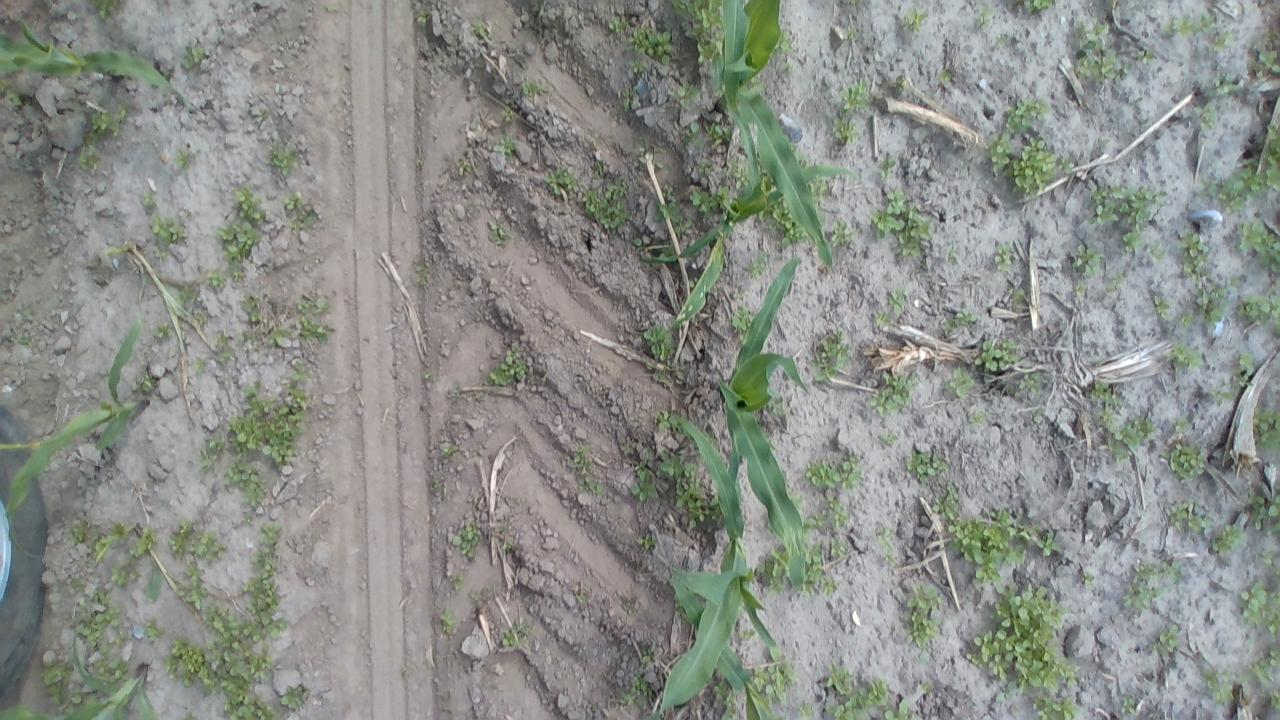Maize: (652, 412, 776, 714), (642, 163, 850, 337), (714, 0, 838, 266), (0, 320, 152, 512), (726, 259, 809, 588), (0, 18, 185, 107), (2, 621, 154, 719), (670, 573, 766, 720), (102, 243, 132, 266)
Weeds: (966, 577, 1084, 681), (932, 490, 1052, 583), (202, 607, 276, 720), (230, 365, 310, 463), (1214, 124, 1280, 212), (1093, 178, 1165, 250), (245, 524, 288, 642), (1098, 408, 1153, 462), (1074, 19, 1117, 85), (676, 0, 722, 61), (1010, 136, 1060, 192), (582, 176, 628, 230), (750, 649, 798, 700), (247, 298, 292, 352), (866, 373, 920, 418), (905, 580, 940, 648), (168, 522, 228, 560), (1160, 434, 1207, 481), (225, 460, 270, 508), (670, 469, 709, 524), (171, 559, 212, 610), (814, 333, 852, 386), (1239, 586, 1280, 632), (165, 636, 202, 684), (92, 522, 136, 562), (1179, 232, 1216, 278), (754, 548, 789, 596), (802, 548, 836, 593), (76, 608, 122, 641), (1237, 295, 1280, 330), (899, 213, 932, 258), (630, 26, 675, 59), (804, 500, 846, 534), (1005, 98, 1048, 130), (978, 338, 1021, 369), (220, 222, 260, 255), (1166, 12, 1218, 36), (1124, 580, 1160, 614), (491, 350, 527, 384), (1040, 690, 1080, 720), (1166, 503, 1208, 531), (1195, 288, 1230, 321), (1212, 520, 1244, 556), (822, 660, 858, 692), (774, 207, 804, 245), (644, 324, 674, 362), (1247, 645, 1280, 679), (580, 440, 600, 496), (841, 77, 870, 114), (1254, 406, 1280, 447), (1254, 36, 1280, 76), (543, 163, 573, 197), (1168, 345, 1205, 371), (152, 217, 185, 246), (1135, 559, 1182, 579), (1072, 243, 1100, 276), (989, 132, 1010, 176), (90, 110, 128, 134), (1238, 222, 1266, 254), (1253, 490, 1280, 523), (270, 142, 296, 176), (906, 452, 939, 478), (1150, 624, 1180, 652), (1204, 671, 1232, 701), (42, 664, 64, 702), (701, 190, 733, 216), (867, 215, 906, 236), (452, 524, 482, 551), (804, 462, 837, 486), (237, 186, 261, 219), (198, 438, 224, 468), (864, 678, 890, 708), (838, 450, 861, 483), (902, 9, 932, 34), (827, 217, 853, 245), (949, 373, 974, 402), (294, 318, 330, 337), (94, 658, 128, 678), (662, 453, 688, 479), (622, 678, 648, 703), (833, 694, 858, 720), (631, 478, 655, 505), (111, 565, 140, 587), (657, 200, 683, 224), (134, 530, 156, 558), (884, 700, 913, 720), (180, 44, 203, 69), (696, 156, 716, 184), (280, 685, 304, 708), (836, 117, 859, 141), (1215, 72, 1237, 96), (1212, 28, 1234, 52), (296, 292, 322, 312), (874, 524, 894, 550), (994, 242, 1014, 268), (888, 189, 906, 217), (70, 688, 96, 707), (214, 340, 234, 364), (732, 159, 747, 191), (732, 308, 755, 328), (751, 252, 770, 276), (1088, 381, 1108, 403), (954, 309, 978, 327), (1018, 374, 1038, 395), (796, 701, 818, 720), (179, 280, 195, 306), (706, 121, 729, 139), (676, 82, 694, 104), (724, 692, 738, 720), (82, 144, 98, 168), (97, 0, 117, 19), (417, 262, 433, 285), (226, 260, 244, 280), (880, 152, 896, 174), (72, 522, 86, 546), (1107, 268, 1122, 290), (1120, 696, 1138, 714), (70, 578, 88, 596), (636, 456, 652, 476), (1235, 353, 1253, 370), (890, 289, 906, 308), (1267, 236, 1280, 259), (146, 619, 159, 642), (490, 222, 504, 243), (283, 192, 300, 209), (194, 358, 210, 376), (1152, 292, 1168, 310), (440, 442, 458, 458), (1179, 306, 1192, 328), (876, 432, 896, 446), (440, 610, 454, 630), (141, 193, 155, 213), (781, 32, 795, 52), (968, 412, 989, 425), (522, 77, 538, 94), (3, 92, 20, 108), (874, 312, 890, 328), (494, 137, 512, 151), (688, 191, 703, 207), (653, 412, 670, 426), (195, 306, 208, 324), (450, 380, 461, 401), (1201, 108, 1215, 124), (642, 646, 656, 662), (175, 150, 191, 164), (92, 588, 108, 602), (714, 682, 726, 700), (449, 576, 464, 590), (500, 630, 514, 644), (154, 326, 169, 339), (1239, 374, 1251, 390), (1154, 242, 1166, 258), (884, 554, 900, 566), (640, 534, 652, 550), (205, 272, 221, 284), (428, 481, 442, 494), (995, 34, 1008, 48), (1258, 552, 1276, 562), (1030, 4, 1048, 14), (290, 216, 304, 228), (1268, 690, 1280, 704), (1138, 48, 1150, 62), (16, 334, 30, 346), (504, 110, 516, 123), (1075, 280, 1089, 291), (476, 19, 484, 38), (457, 160, 468, 173), (939, 71, 950, 84), (610, 22, 624, 32), (744, 629, 755, 641), (979, 10, 988, 24), (630, 65, 644, 74), (418, 10, 427, 23), (576, 590, 586, 601), (424, 374, 434, 384), (184, 712, 196, 720), (922, 681, 932, 690)
